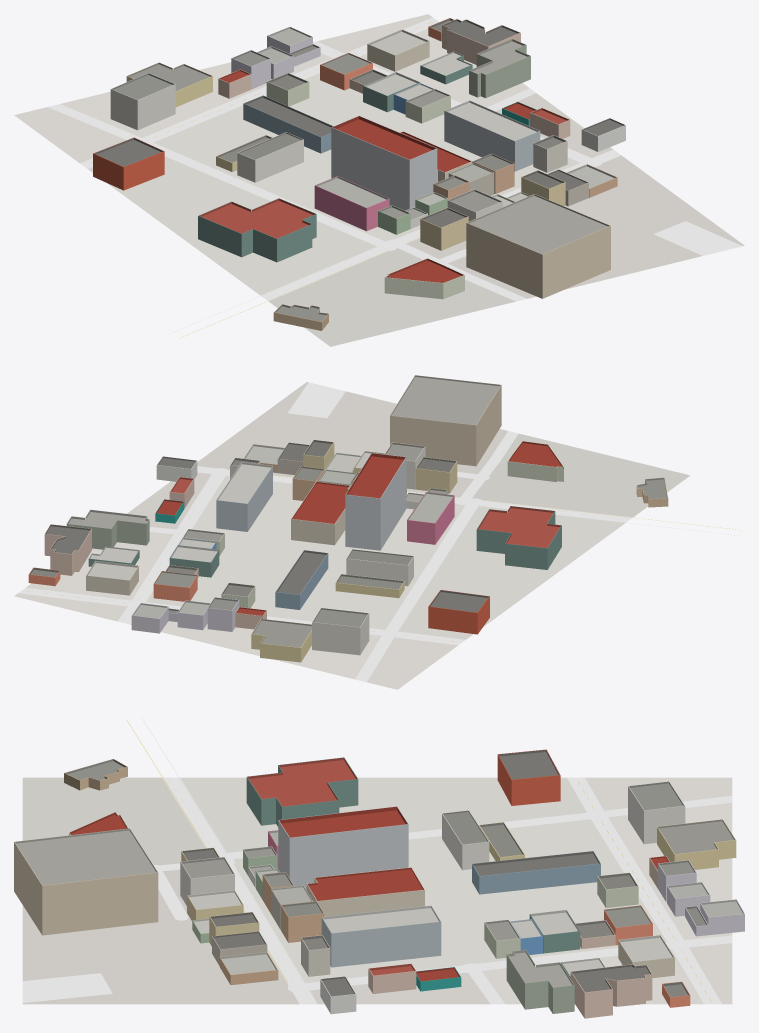
3 renders of one model, top to bottom at view 1: azimuth 30°, elevation 25°; view 2: azimuth 150°, elevation 25°; view 3: azimuth 270°, elevation 25°, orthographic. The views are drawn at different scales.
Visible parts, largest first — view 1: ground, walls, roofs, asphalt, grass; view 2: ground, walls, roofs, asphalt, grass; view 3: ground, walls, roofs, asphalt, grass, markings.
Part boxes in pixels (x1,y1,x2,y2): ground: [14, 14, 744, 346]; walls: [93, 25, 625, 330]; roofs: [93, 18, 625, 322]; asphalt: [47, 17, 621, 301]; grass: [653, 221, 742, 255]; ground: [14, 382, 690, 689]; walls: [28, 385, 668, 662]; roofs: [29, 375, 667, 647]; asphalt: [18, 431, 632, 682]; grass: [288, 382, 345, 418]; ground: [22, 777, 732, 1004]; walls: [14, 755, 744, 1018]; roofs: [14, 749, 744, 997]; asphalt: [154, 777, 732, 1004]; grass: [22, 973, 112, 1002]; markings: [127, 718, 723, 1003].
Size of what is drawn, in the model's own units: 250 by 24.5 by 258.
